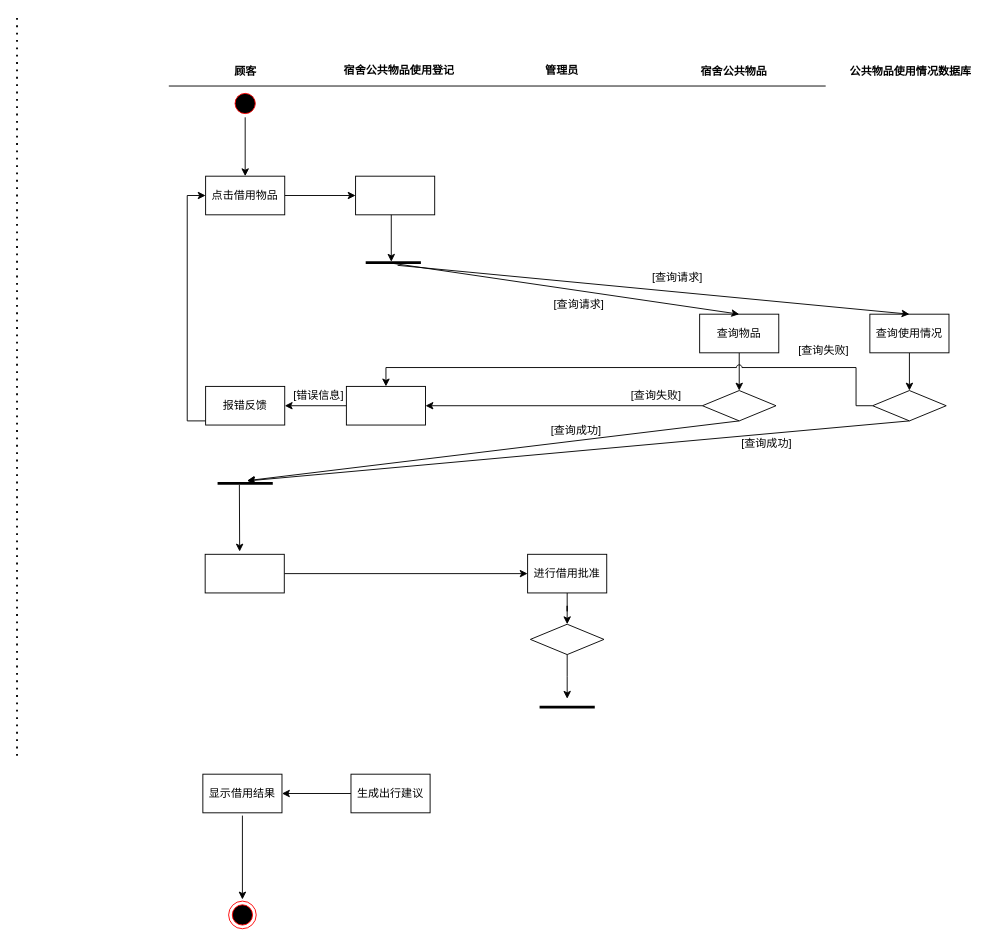
The diagram is 986 pixels wide and 945 high, and some of its shapes have lost their labels. The shapes that lost their labels are listed below. From the top down, each one's box as (x1, y1, x2, y2) in pixels, then its label:
(355, 175, 435, 215): 显示基本信息
(345, 385, 426, 425): 查询失败处理
(204, 553, 284, 593): 填写借用申请
